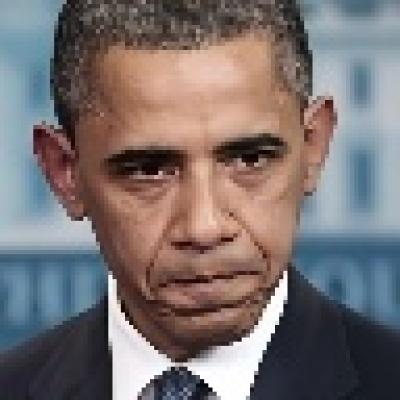angry: (80, 38, 297, 334)
